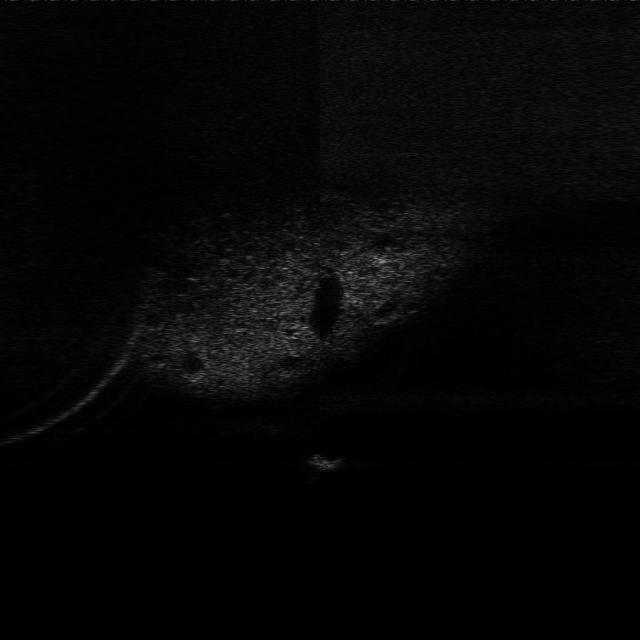cube: (310, 444, 344, 475)
